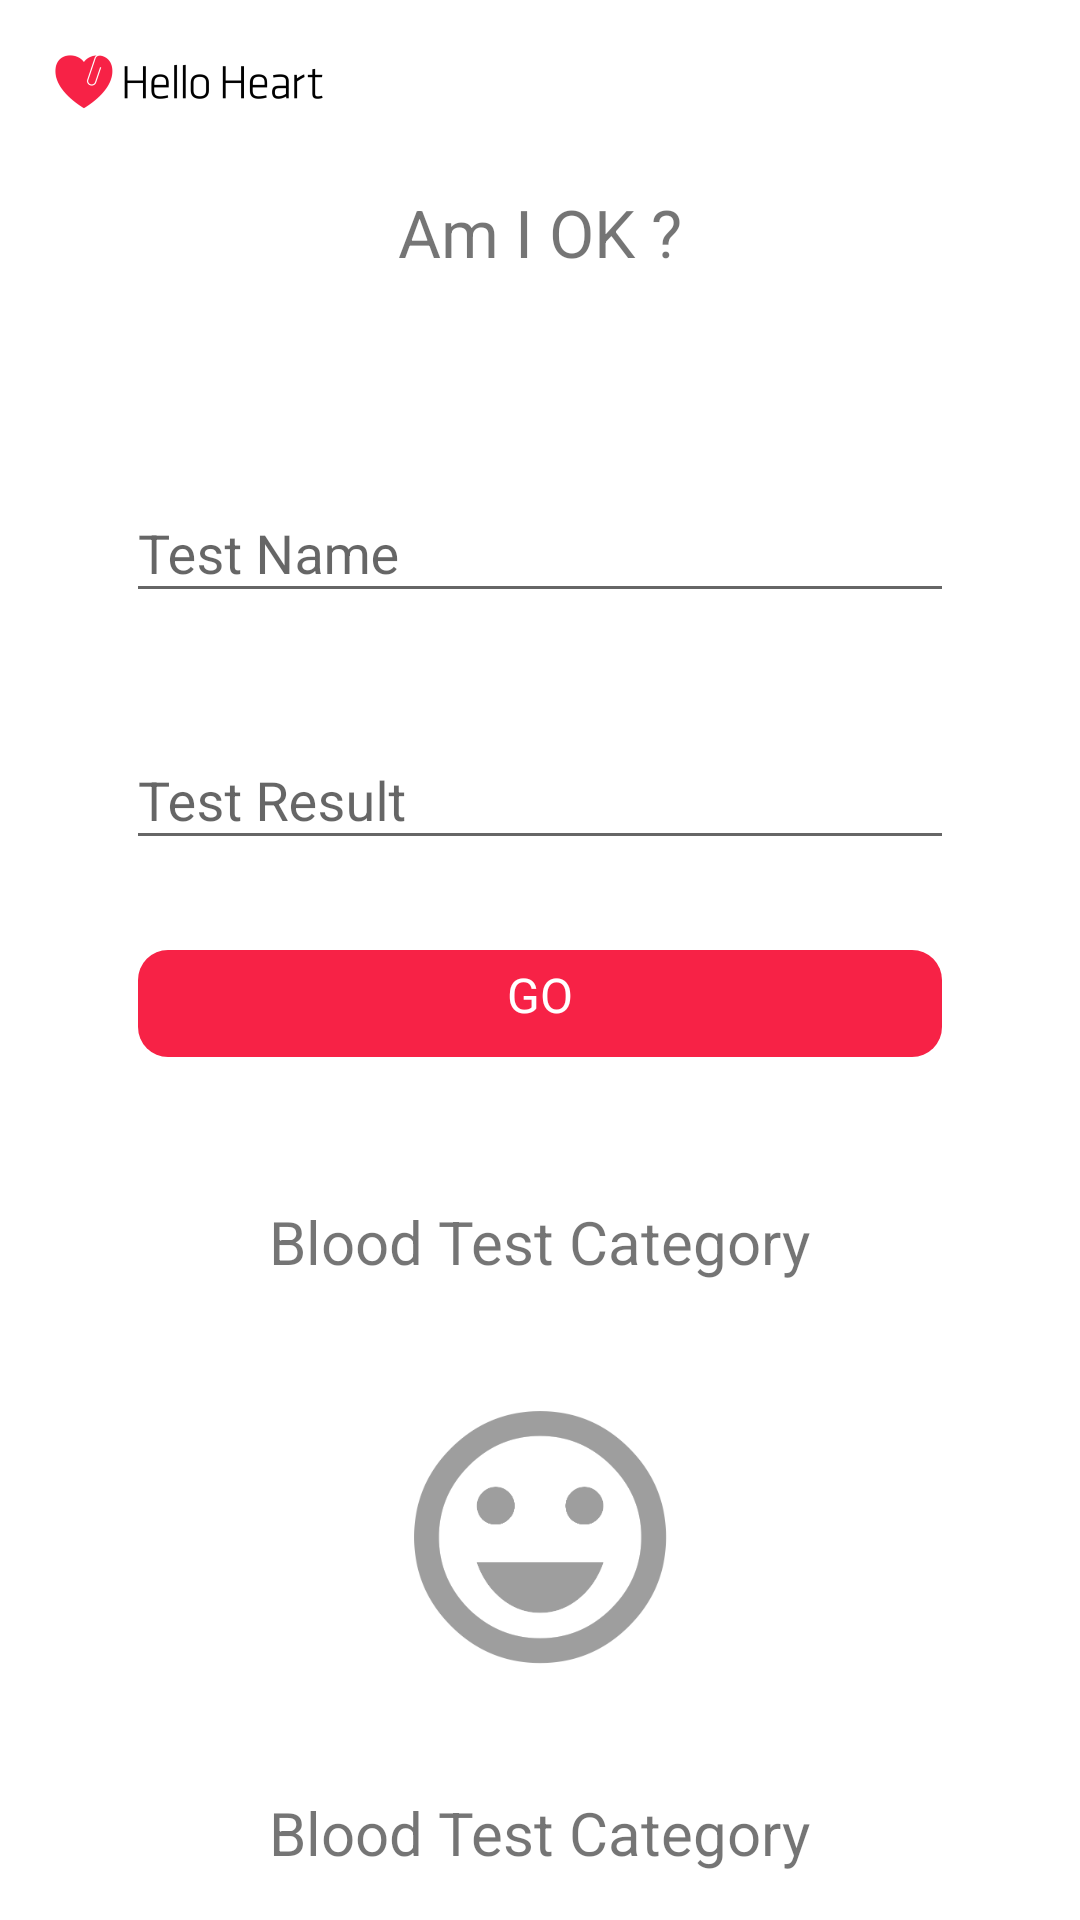

Screen size 1080 x 1920. Icon name, then its center in pixels as (x=x, y=y):
sentiment very satisfied: (x=540, y=1537)
